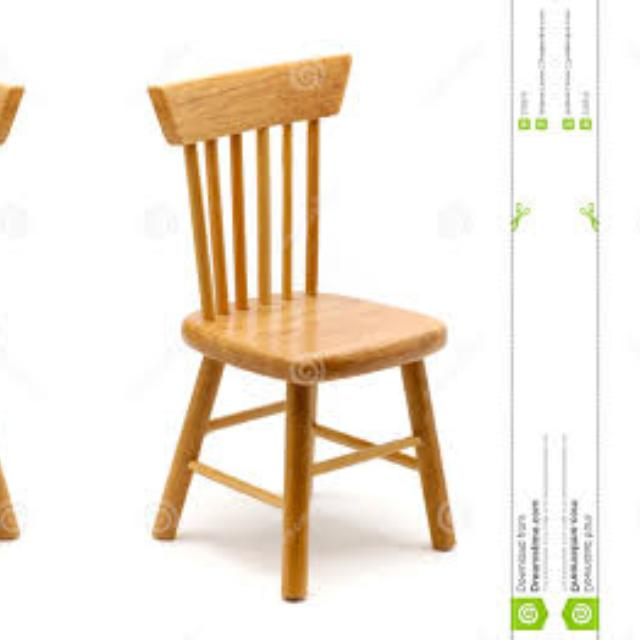obstacle: (122, 29, 474, 626), (0, 28, 48, 625), (633, 28, 640, 625)
